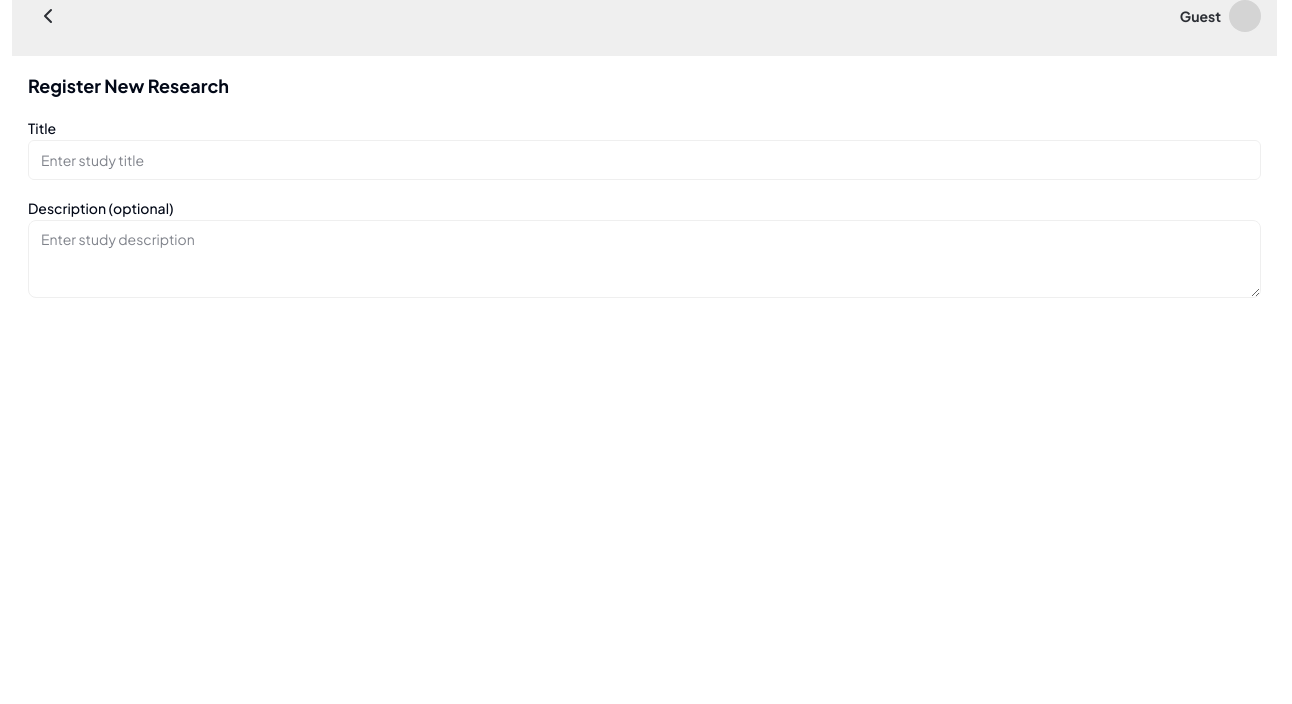
Test: Register page FAB canAdvance › becomes enabled when both title and description are filled
Type "My Study" into the field labelled "Title" at (644, 160), box [28,140,1261,180]
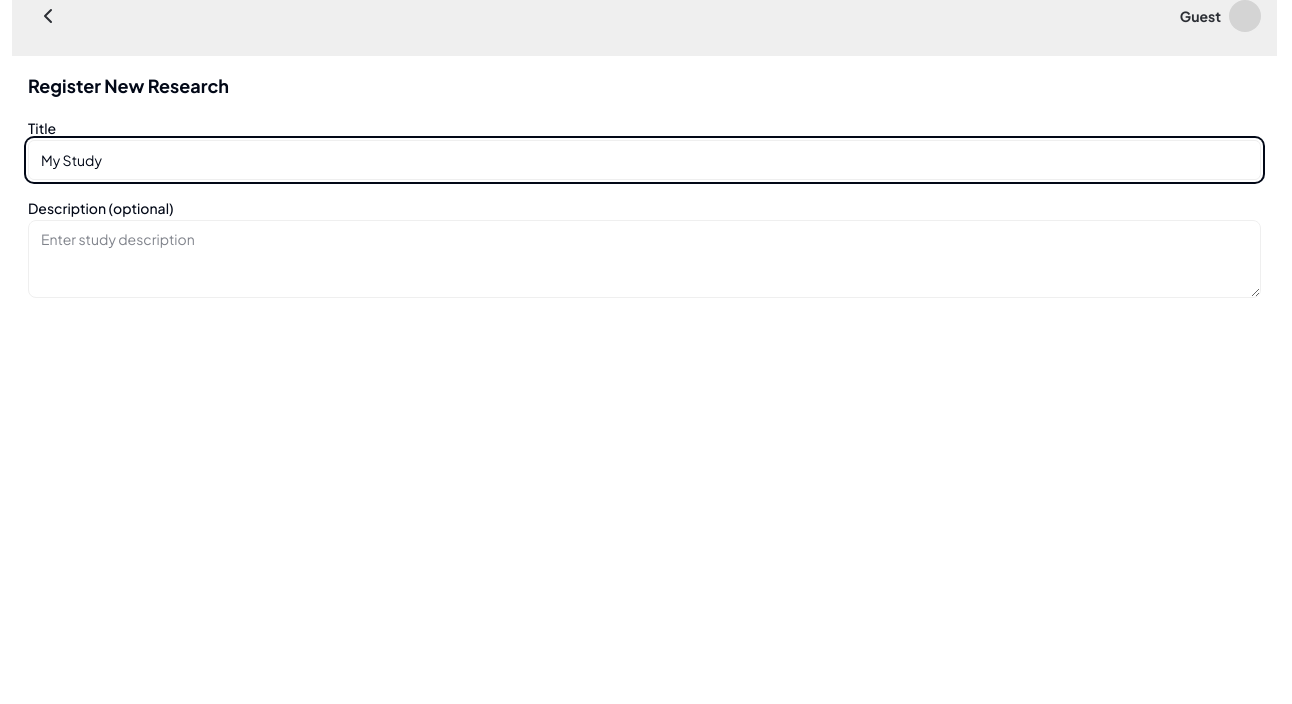
Type "A description" into the text box labelled "Description (optional)" at (644, 259), box [28,220,1261,298]
(page scrolled)
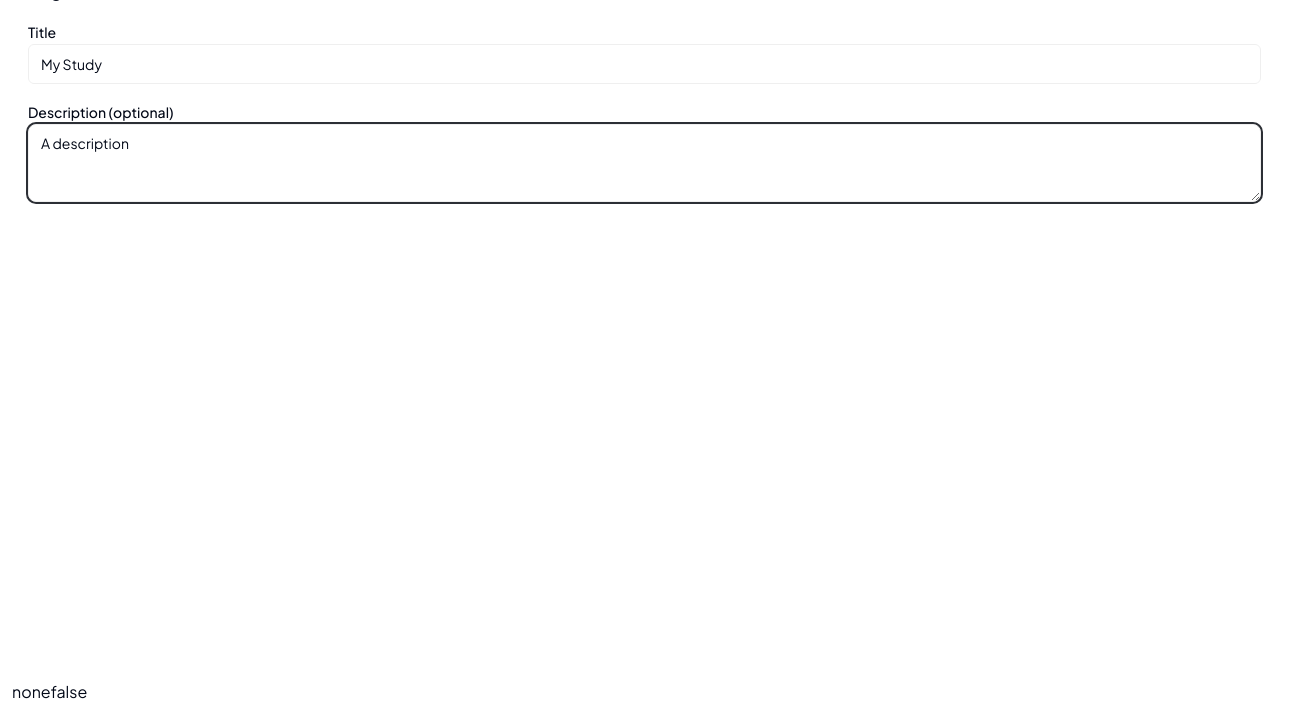
Now the text with test id "fab-disabled" reads "false", box [51,681,87,702]
